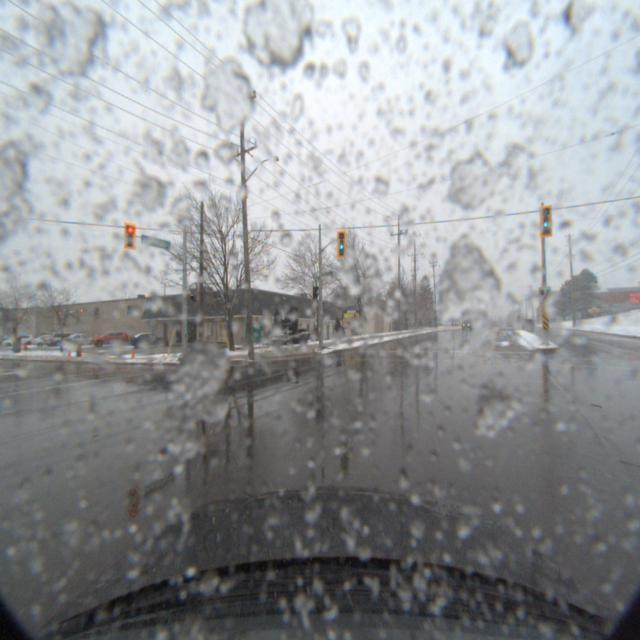Car: (85, 329, 129, 349), (124, 331, 168, 350)
